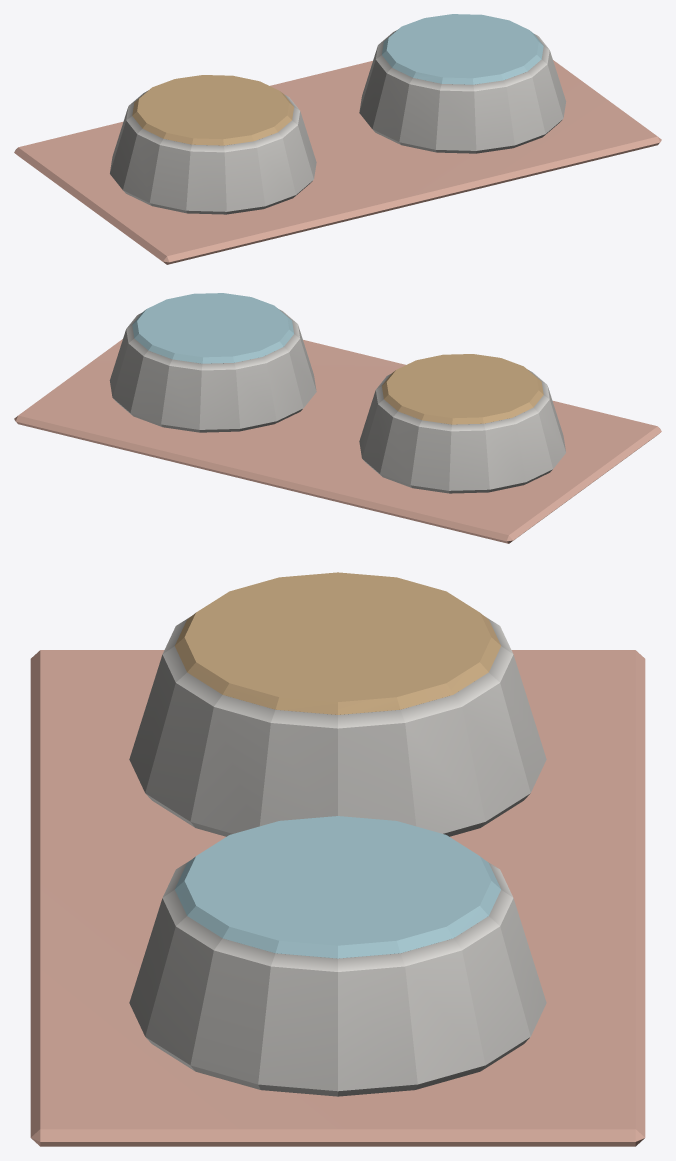
The model's file is petshop_food_bowls.glb.
3 views of the same model, one above another, from view 1: azimuth 30°, elevation 25°; view 2: azimuth 150°, elevation 25°; view 3: azimuth 270°, elevation 25° (orthographic). The views are drawn at different scales.
Size of the model in its own units: 0.6 by 0.085 by 0.32.
